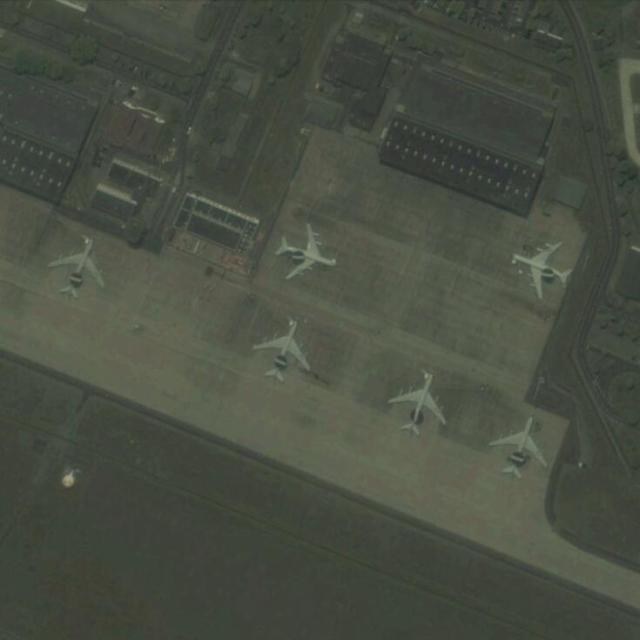fighter jet: (483, 410, 548, 493), (388, 372, 452, 452), (41, 232, 105, 307), (248, 315, 314, 386), (510, 228, 576, 299), (272, 219, 328, 283)
